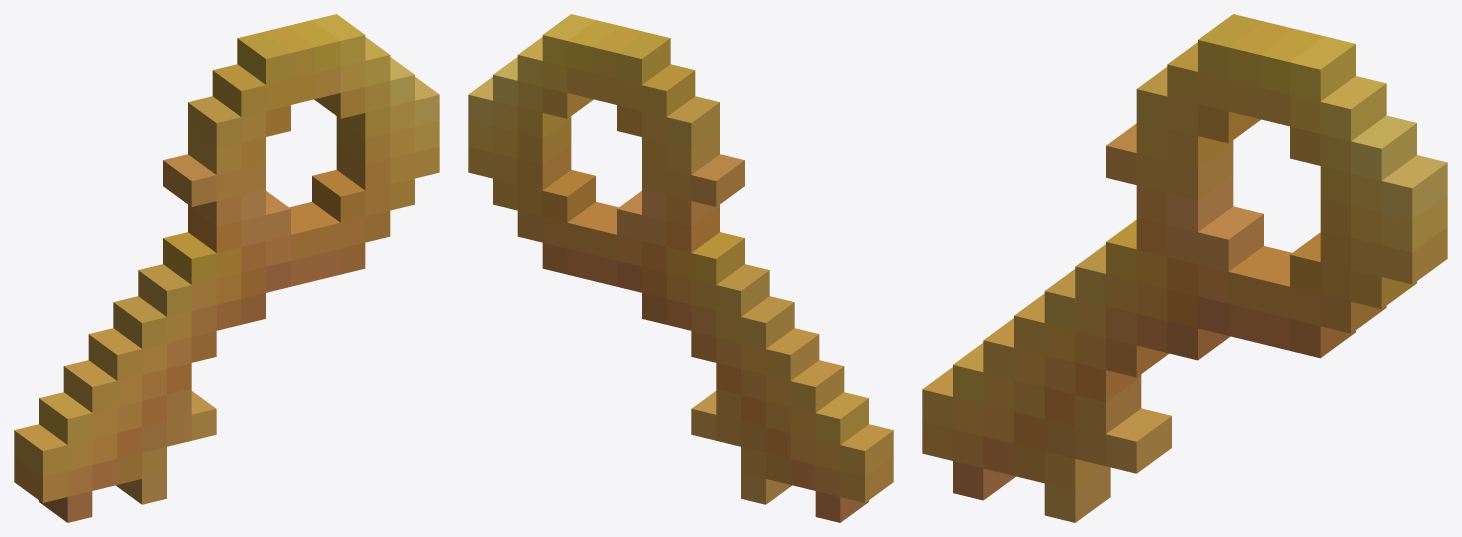
The model's file is old-key.glb.
3 renders of one model, left to right at view 1: azimuth 30°, elevation 25°; view 2: azimuth 150°, elevation 25°; view 3: azimuth 330°, elevation 25°, orthographic. The views are drawn at different scales.
Parts seen in each view (by area): view 1: prop; view 2: prop; view 3: prop.
Boxes of the visible parts, box(x1,y1,x2,y2) form: prop: box(14, 14, 439, 522); prop: box(468, 14, 893, 522); prop: box(922, 14, 1447, 522).
Size of the model in its own units: 16 by 16 by 2.
